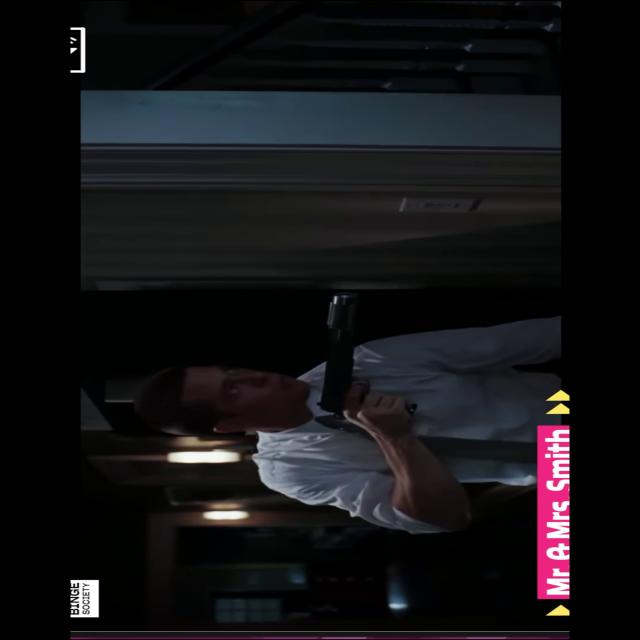weapons: (301, 286, 419, 428)
